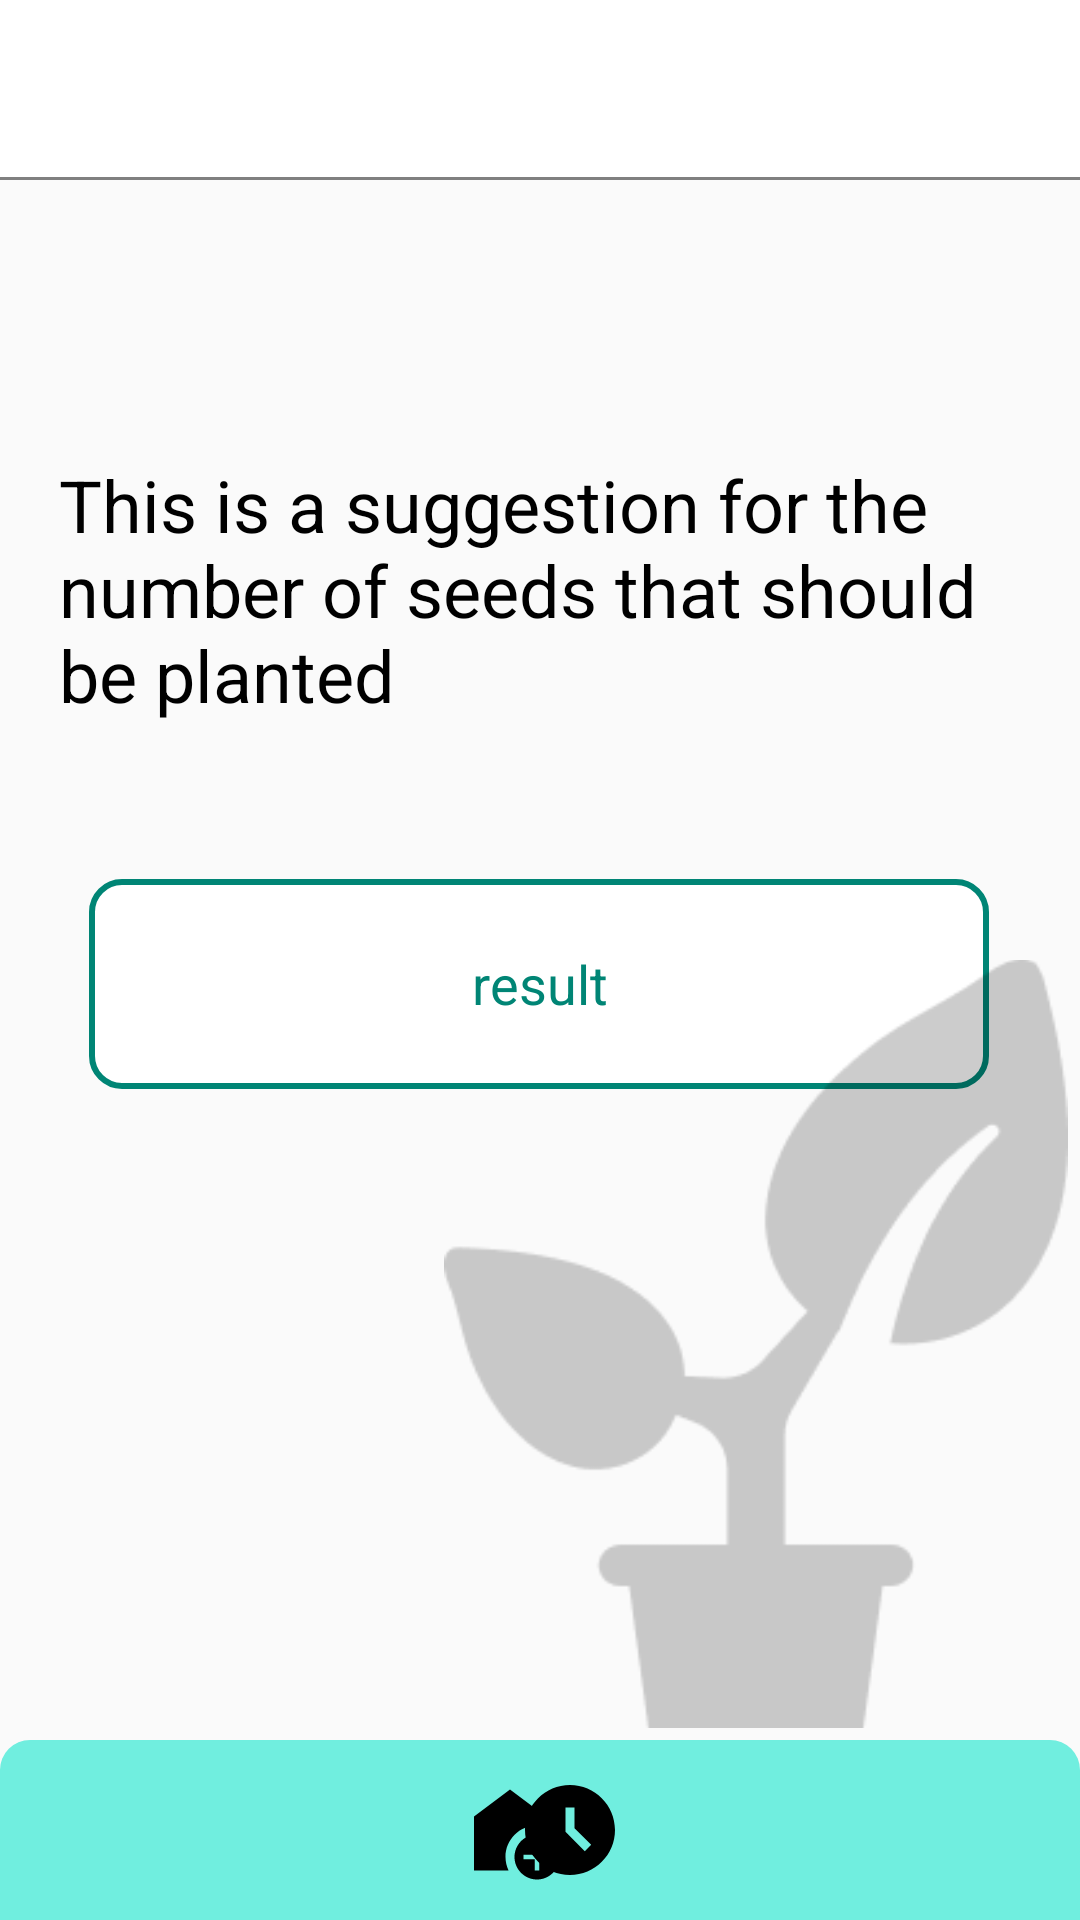

Screen size 1080×1920. Icon name, then its box in pixels as (left=x1, top=y1, right=x2, bottom=y2):
history: (left=516, top=1785, right=615, bottom=1880)
